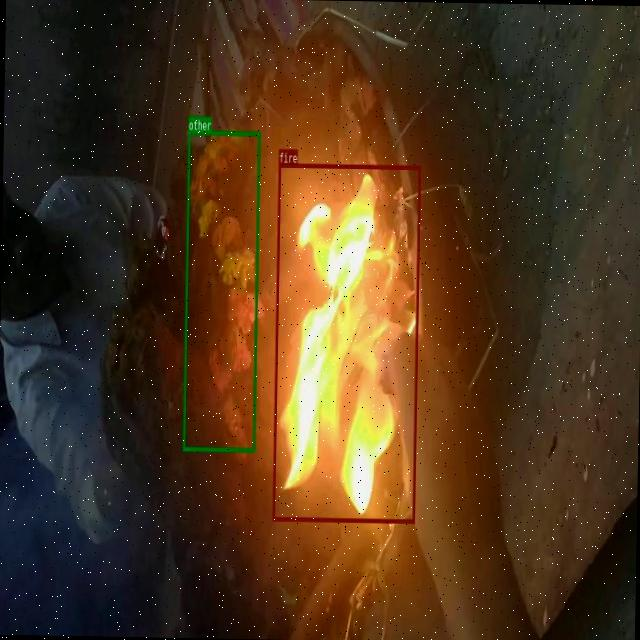fire: (272, 162, 419, 522)
